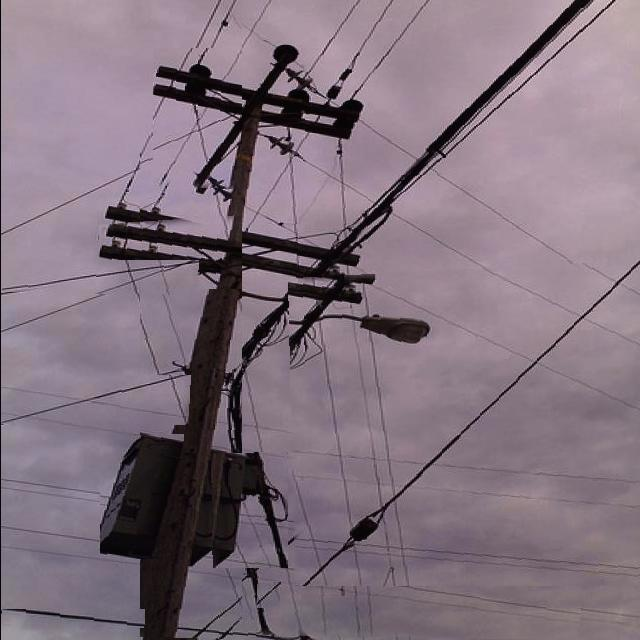crossarm: (152, 48, 366, 190), (98, 220, 372, 289)
pole: (139, 105, 263, 639)
transformer: (99, 435, 182, 559), (211, 453, 287, 568)
wire: (241, 0, 616, 403), (293, 260, 640, 586), (1, 375, 190, 423), (241, 473, 284, 636), (0, 261, 198, 293), (1, 609, 143, 628), (256, 583, 280, 608), (220, 622, 255, 639)
